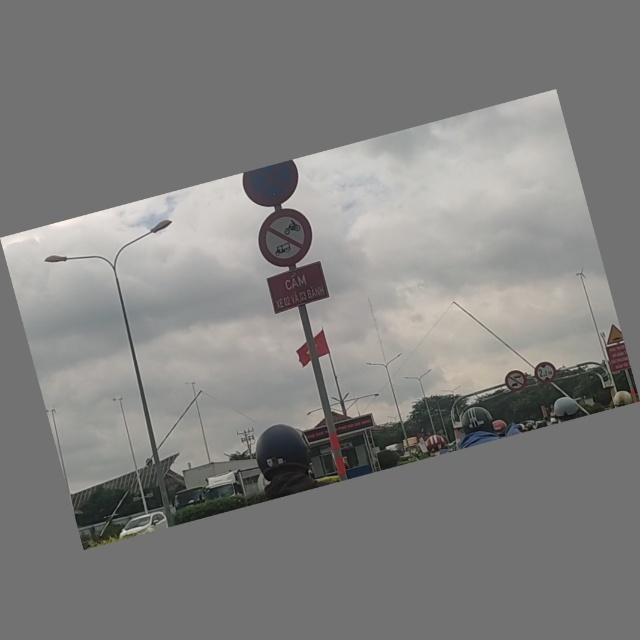P.107: (504, 369, 530, 395)
P.111: (253, 204, 320, 272)
P.117*: (531, 360, 560, 388)
P.130: (239, 159, 308, 214)
W.221b: (602, 324, 624, 347)
